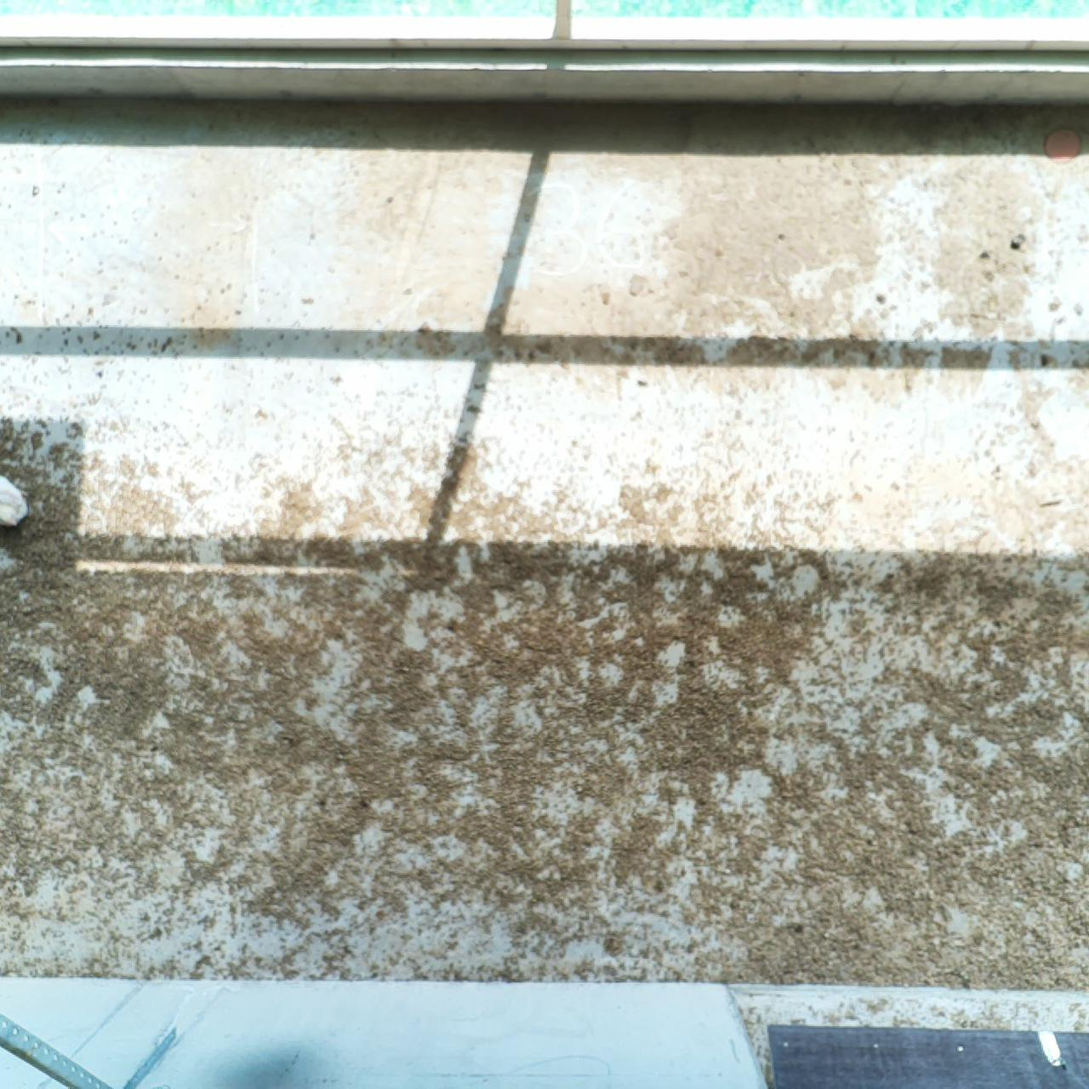chicken: (0, 474, 33, 532)
